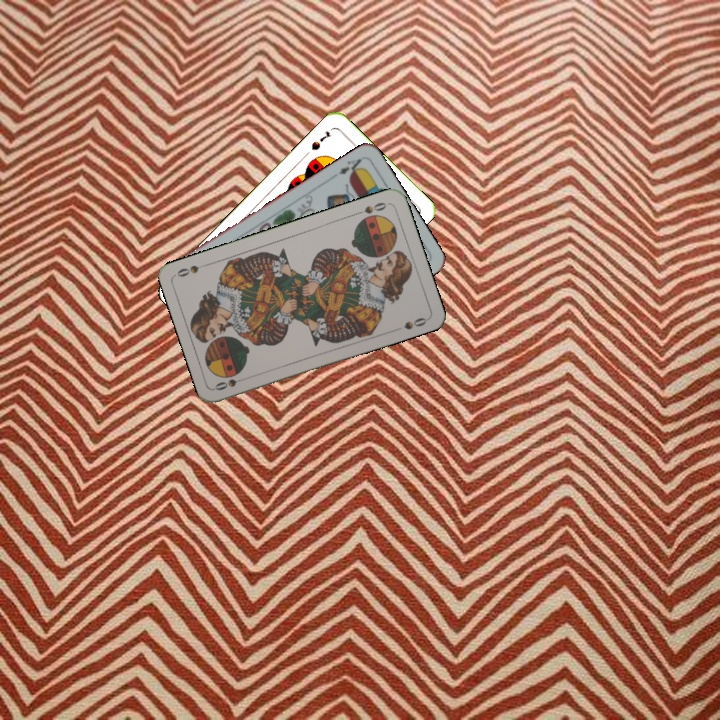EA: (329, 154, 365, 180)
S7: (307, 127, 334, 153)
SO: (211, 372, 250, 393), (351, 198, 391, 218)
